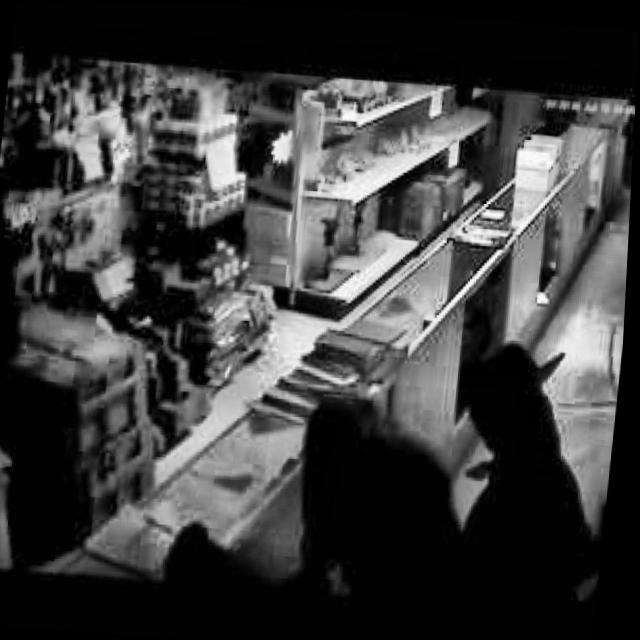burglary: (275, 300, 628, 608)
